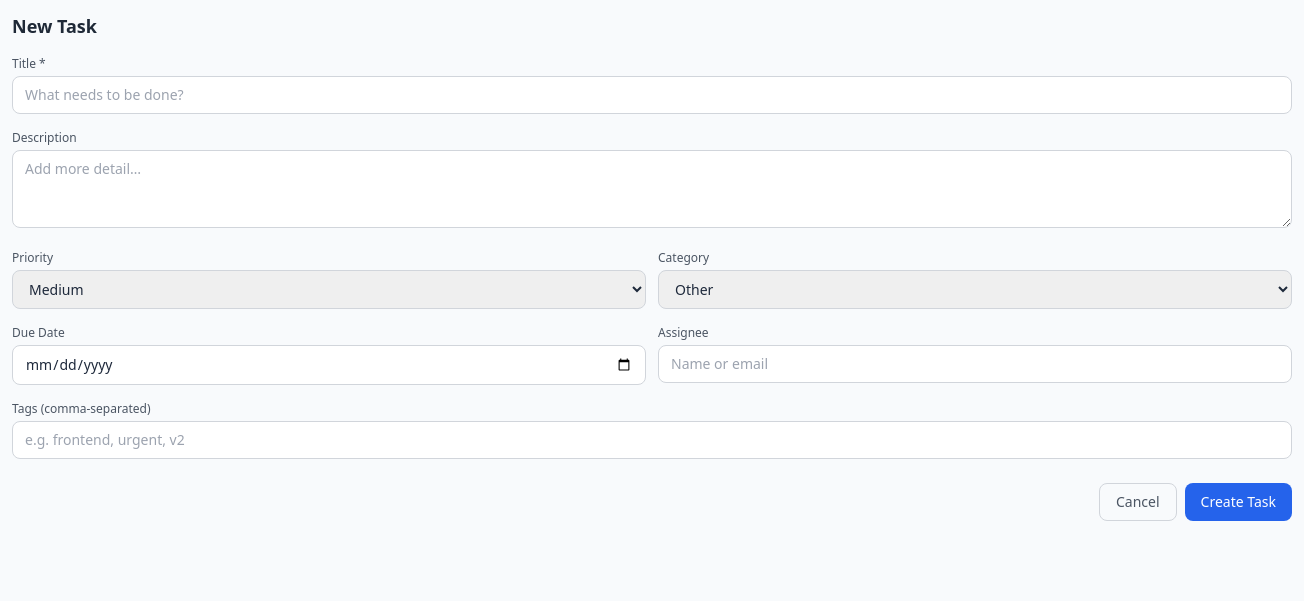
TaskForm — create mode › shows a validation error when title is too short
Type "ab" into the field with test id "title-input" at (652, 95), box x1=12 y1=76 x2=1292 y2=114
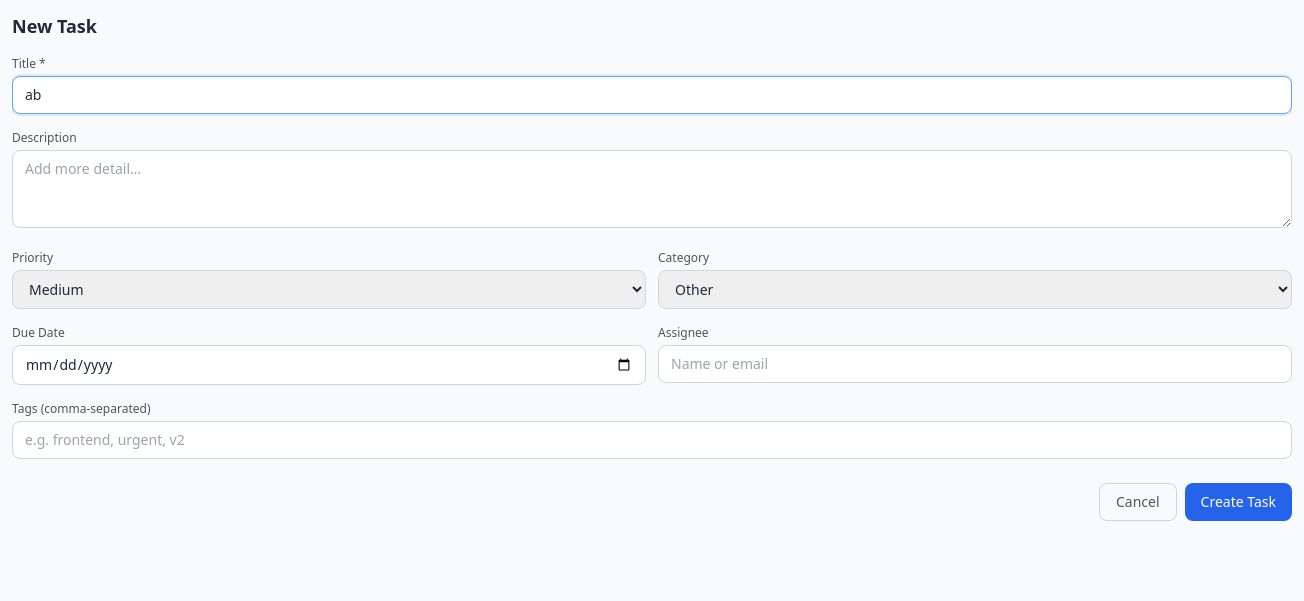
Click the button with test id "submit-button" at (1238, 502), box x1=1185 y1=483 x2=1292 y2=521
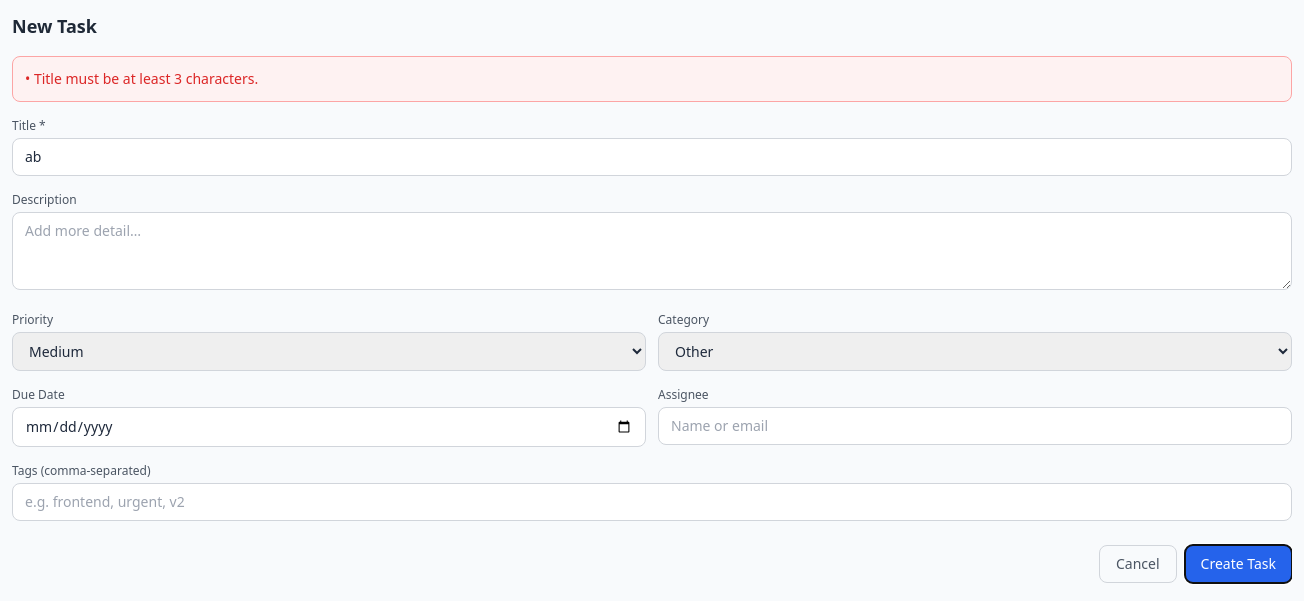
Check: the message "• Title must be at least 3 characters." is shown, box x1=12 y1=56 x2=1292 y2=102
